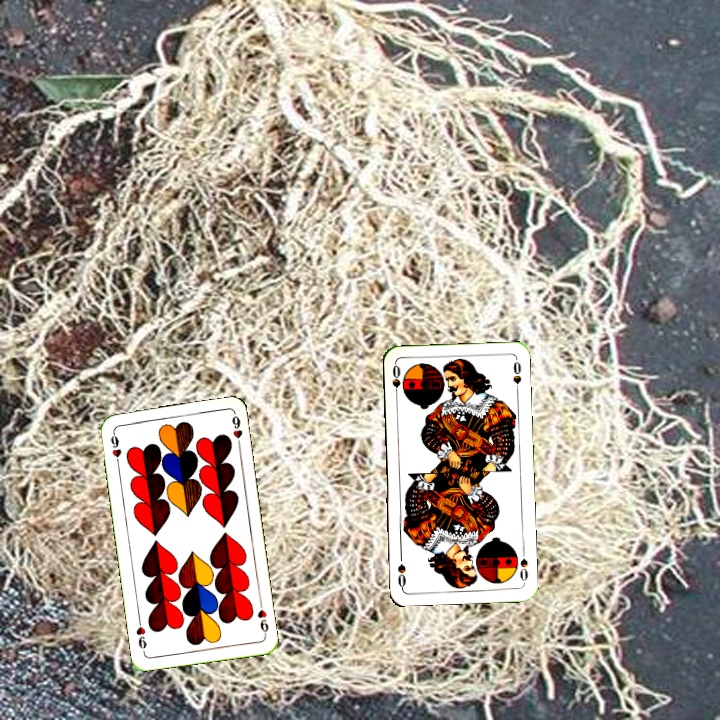H9: (253, 598, 271, 638), (107, 428, 124, 468)
SO: (388, 361, 403, 401), (516, 545, 531, 585)
